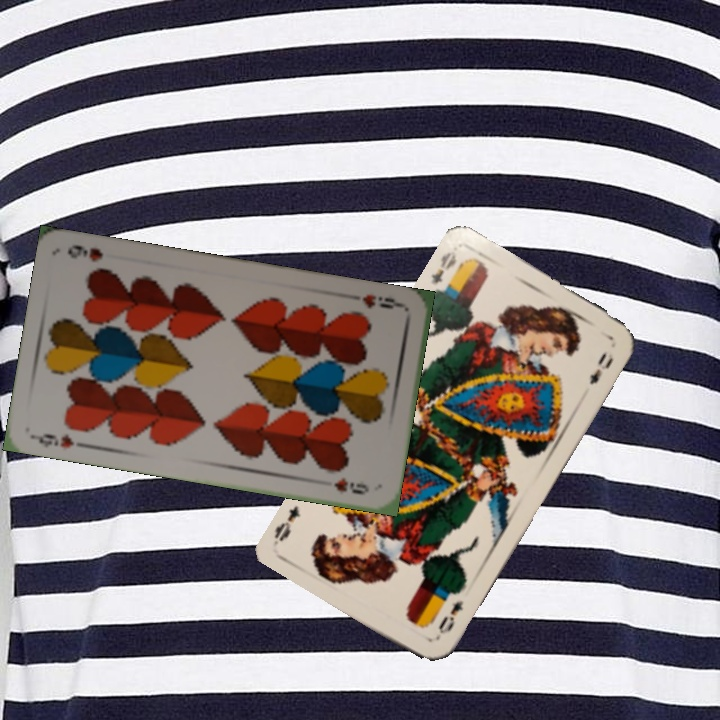EO: (432, 596, 466, 642), (426, 246, 459, 287)
H9: (358, 290, 406, 312), (29, 429, 77, 451)
